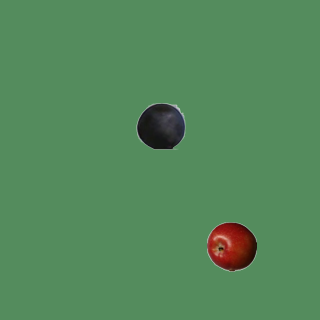Apple Braeburn: (206, 221, 256, 271)
Grape Blue: (135, 100, 185, 150)
